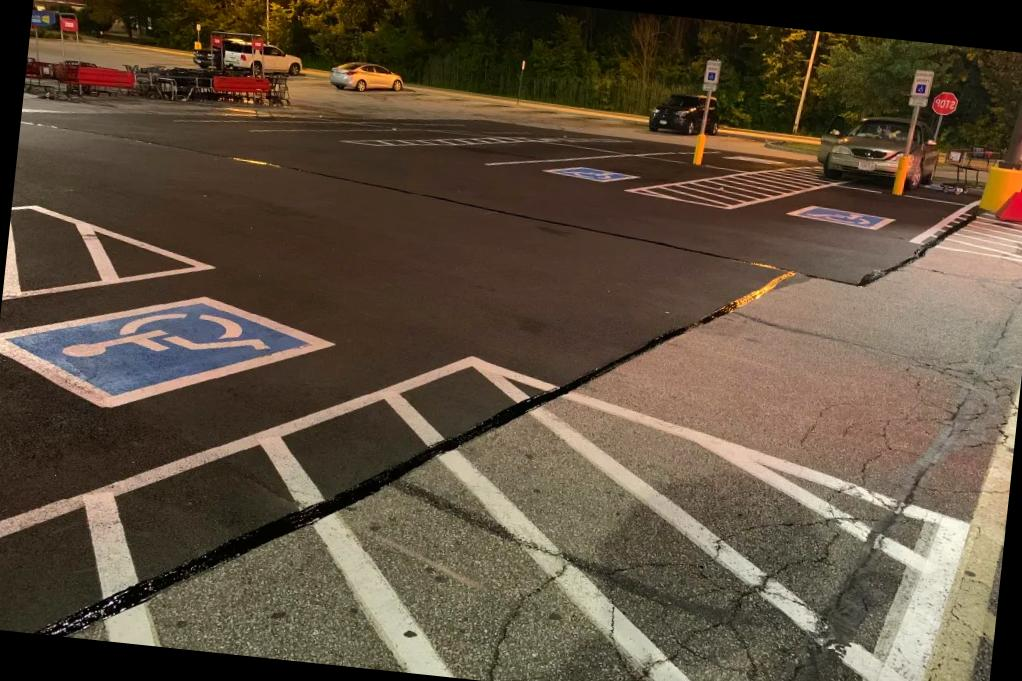faded_road_lines: (0, 301, 992, 681)
